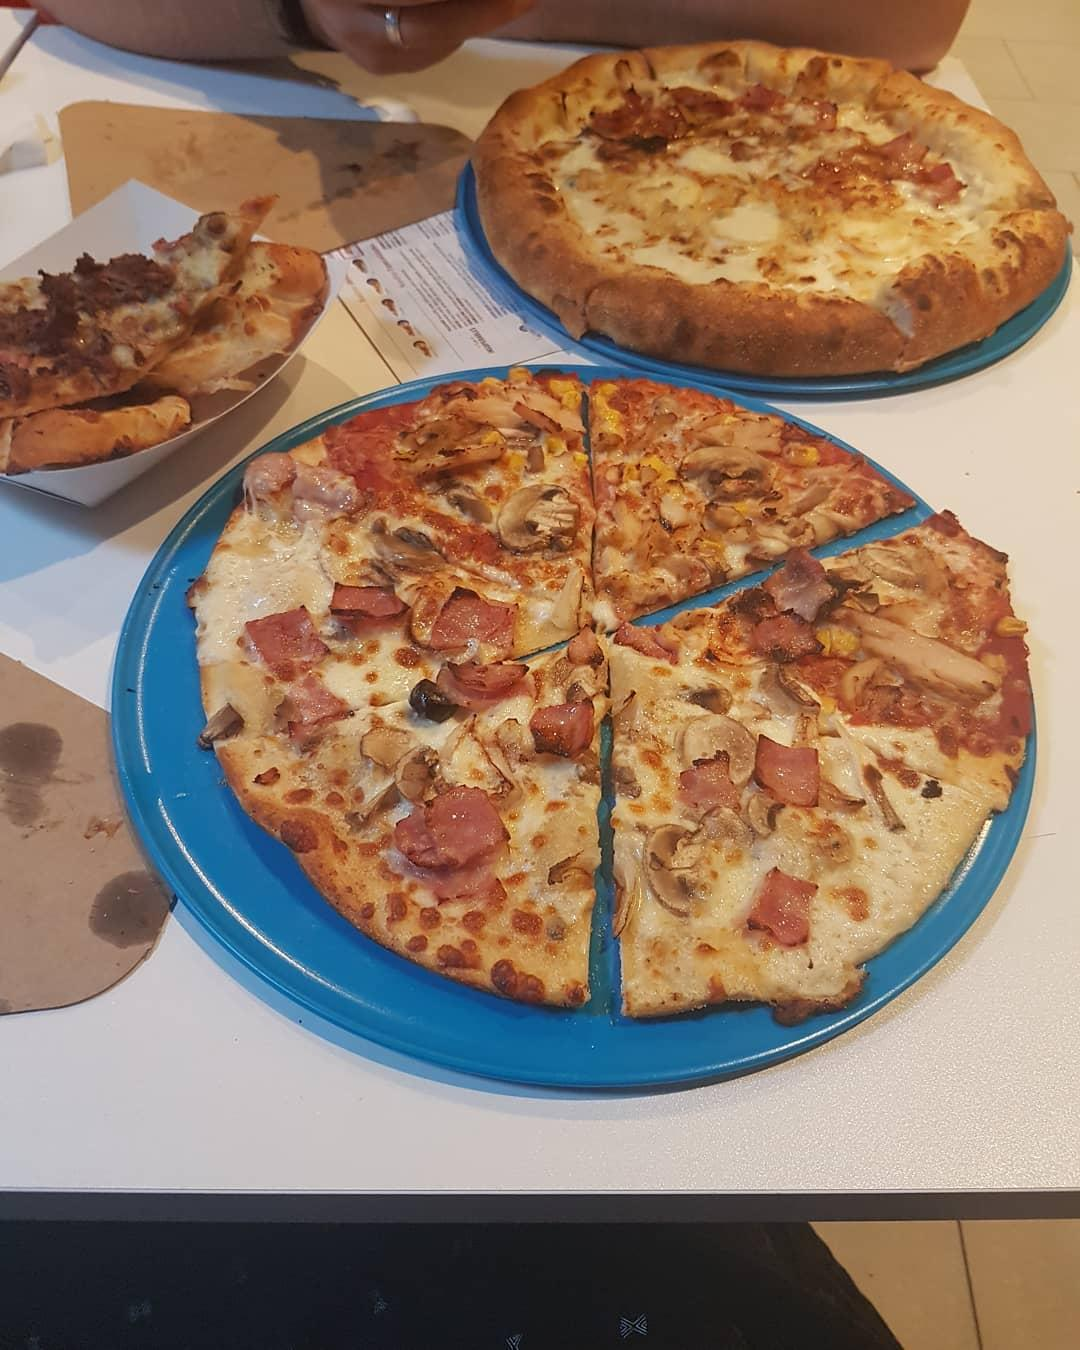Cheese: (584, 201, 952, 264)
Chicken: (390, 376, 586, 474), (836, 601, 1005, 702)
Ham: (397, 792, 506, 906), (735, 549, 838, 665), (241, 447, 369, 520), (748, 863, 820, 948), (752, 730, 824, 811), (429, 585, 521, 649), (247, 606, 328, 672), (434, 657, 531, 706), (276, 672, 348, 736), (531, 699, 598, 758), (678, 752, 741, 808), (330, 580, 407, 624), (616, 620, 683, 666)
Mushroom: (642, 820, 711, 915), (497, 483, 582, 551), (678, 445, 780, 490), (857, 542, 920, 590), (193, 701, 249, 750)
Pizza: (194, 376, 1037, 1009), (471, 42, 1067, 376)
